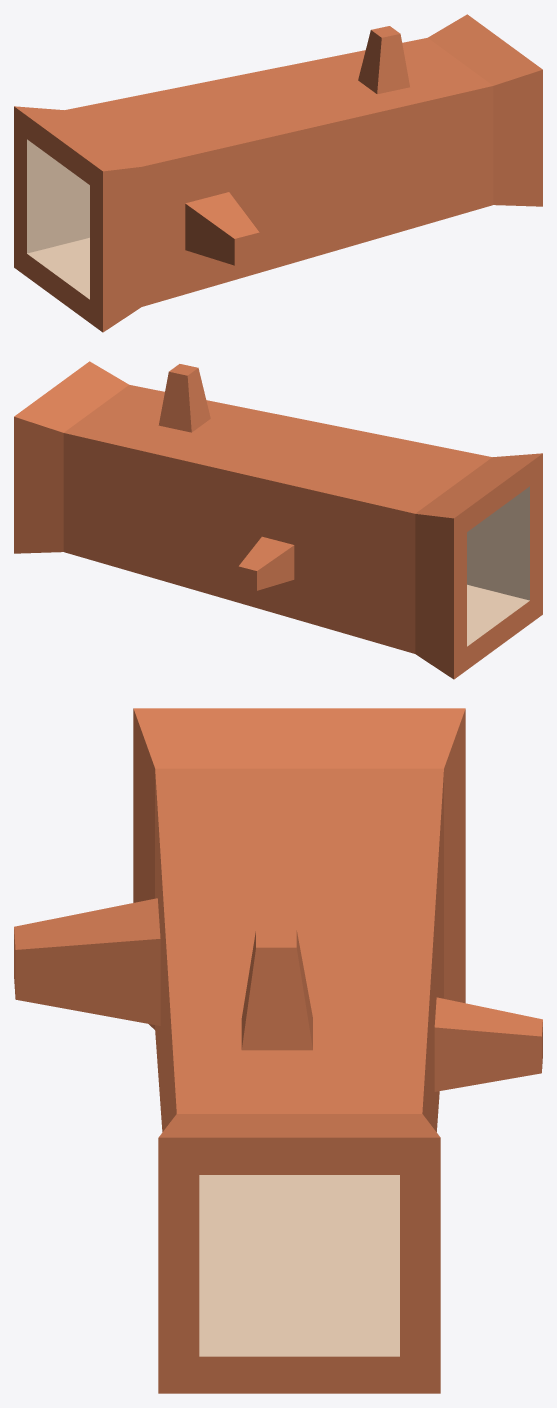
Rendered from log.obj.
The picture shows the model from 3 angles, top to bottom: view 1: azimuth 30°, elevation 25°; view 2: azimuth 150°, elevation 25°; view 3: azimuth 270°, elevation 25°; orthographic projection. The views are drawn at different scales.
Parts seen in each view (by area): view 1: log_large_0; view 2: log_large_0; view 3: log_large_0.
Boxes of the visible parts, bbox=[...] form: log_large_0: bbox=[14, 14, 542, 332]; log_large_0: bbox=[14, 361, 542, 679]; log_large_0: bbox=[14, 708, 542, 1393].
Bounding box in the file's own units: 1 × 0.4167 × 0.5493.
